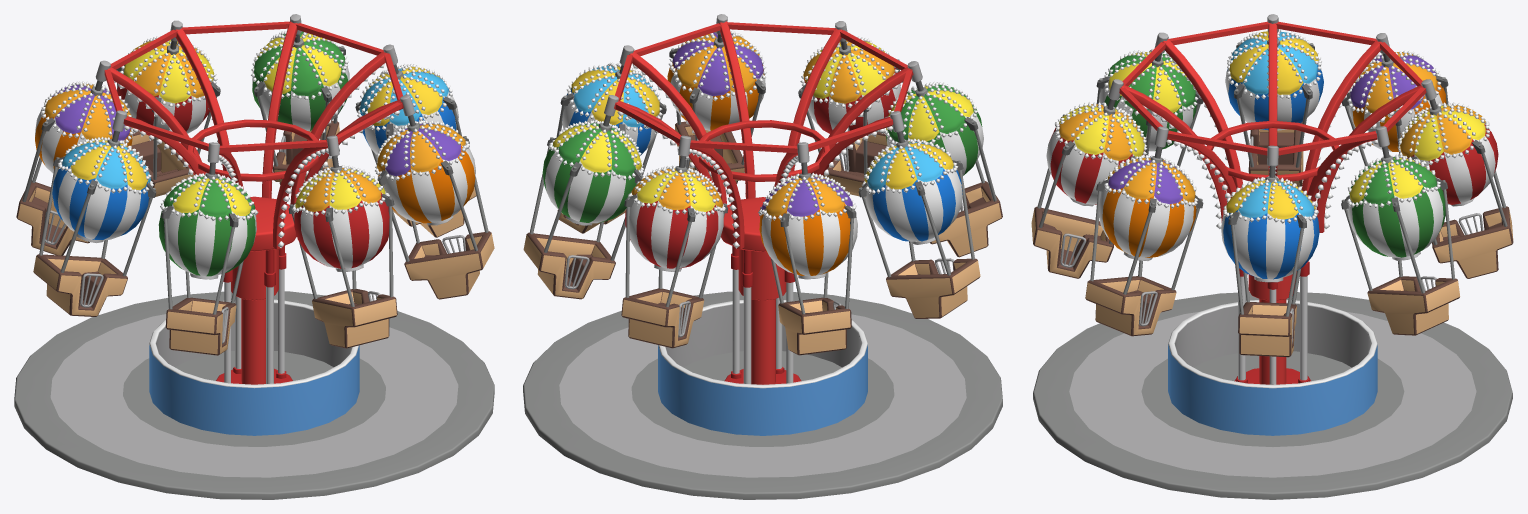
File: attraction_13_001.gltf
The picture shows the model from 3 angles, left to right: view 1: azimuth 30°, elevation 25°; view 2: azimuth 150°, elevation 25°; view 3: azimuth 270°, elevation 25°; orthographic projection.
Parts seen in each view (by area): view 1: attraction_13_001, attraction_13_003, attraction_13_007, attraction_13_004 (1), attraction_13_006 (1), attraction_13_005, attraction_13_006, attraction_13_005 (1), attraction_13_004, attraction_13_007 (1), attraction_13_002; view 2: attraction_13_001, attraction_13_003, attraction_13_007, attraction_13_005 (1), attraction_13_004, attraction_13_006, attraction_13_005, attraction_13_006 (1), attraction_13_004 (1), attraction_13_007 (1), attraction_13_002; view 3: attraction_13_001, attraction_13_003, attraction_13_006 (1), attraction_13_005 (1), attraction_13_007 (1), attraction_13_004 (1), attraction_13_004, attraction_13_007, attraction_13_005, attraction_13_006, attraction_13_002.
Boxes of the visible parts, x1=… form: attraction_13_001: x1=14, y1=291, x2=494, y2=499; attraction_13_003: x1=104, y1=20, x2=403, y2=300; attraction_13_007: x1=33, y1=110, x2=156, y2=316; attraction_13_004 (1): x1=288, y1=135, x2=397, y2=348; attraction_13_006 (1): x1=375, y1=95, x2=494, y2=299; attraction_13_005: x1=158, y1=142, x2=258, y2=355; attraction_13_006: x1=16, y1=60, x2=133, y2=255; attraction_13_005 (1): x1=251, y1=14, x2=349, y2=187; attraction_13_004: x1=116, y1=20, x2=220, y2=196; attraction_13_007 (1): x1=355, y1=44, x2=476, y2=237; attraction_13_002: x1=216, y1=269, x2=292, y2=384; attraction_13_001: x1=523, y1=291, x2=1002, y2=499; attraction_13_003: x1=614, y1=21, x2=913, y2=300; attraction_13_007: x1=858, y1=111, x2=980, y2=318; attraction_13_005 (1): x1=523, y1=95, x2=644, y2=299; attraction_13_004: x1=621, y1=135, x2=727, y2=348; attraction_13_006: x1=758, y1=142, x2=857, y2=355; attraction_13_005: x1=883, y1=61, x2=1002, y2=257; attraction_13_006 (1): x1=667, y1=14, x2=766, y2=183; attraction_13_004 (1): x1=798, y1=21, x2=900, y2=197; attraction_13_007 (1): x1=556, y1=45, x2=666, y2=233; attraction_13_002: x1=724, y1=269, x2=801, y2=384; attraction_13_001: x1=1033, y1=292, x2=1512, y2=499; attraction_13_003: x1=1119, y1=21, x2=1426, y2=300; attraction_13_006 (1): x1=1085, y1=126, x2=1203, y2=336; attraction_13_005 (1): x1=1341, y1=126, x2=1460, y2=335; attraction_13_007 (1): x1=1221, y1=145, x2=1319, y2=357; attraction_13_004 (1): x1=1031, y1=79, x2=1147, y2=278; attraction_13_004: x1=1397, y1=79, x2=1513, y2=278; attraction_13_007: x1=1225, y1=14, x2=1323, y2=186; attraction_13_005: x1=1096, y1=32, x2=1203, y2=167; attraction_13_006: x1=1341, y1=33, x2=1448, y2=166; attraction_13_002: x1=1234, y1=276, x2=1310, y2=384.
Bounding box in the file's own units: 17.57 × 12.81 × 17.57.
2 materials, 1 textured.
